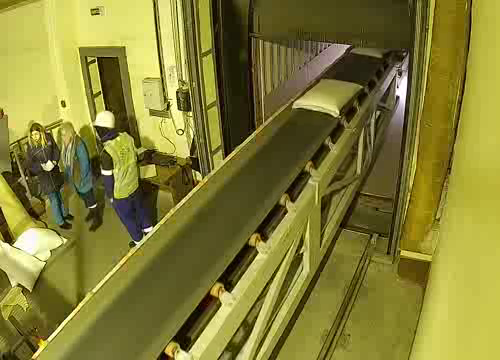bag: (291, 78, 365, 117), (351, 45, 391, 60)
